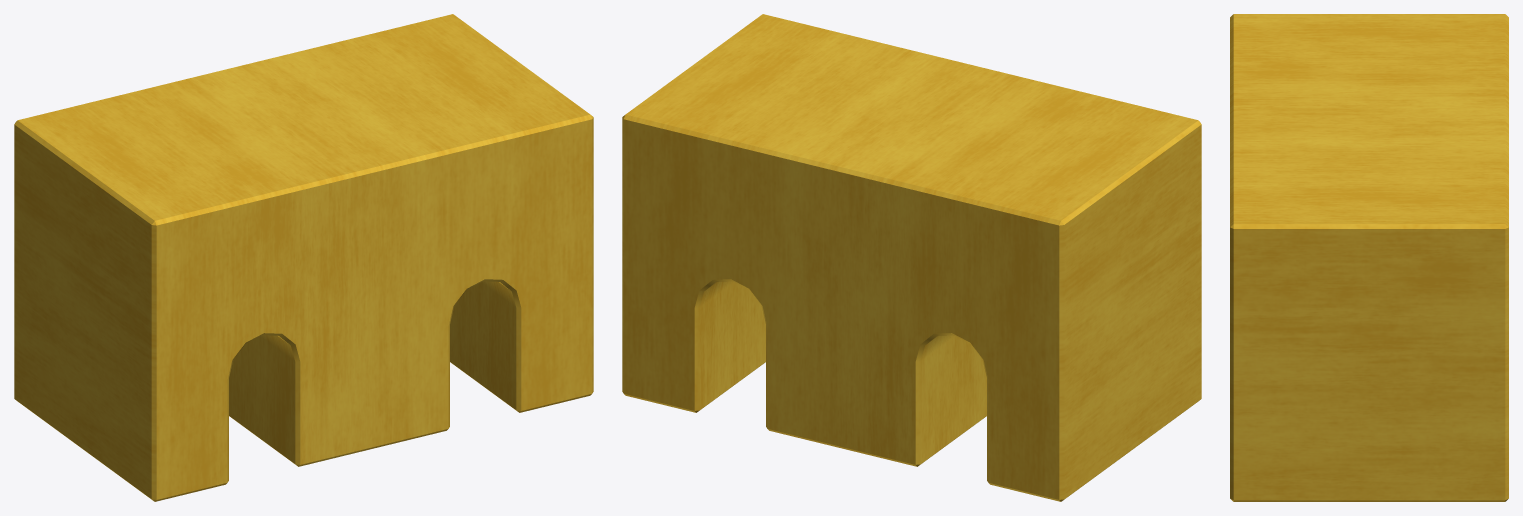
Rendered from houseblock4-2.fbx.
3 views of the same model, side by side, from view 1: azimuth 30°, elevation 25°; view 2: azimuth 150°, elevation 25°; view 3: azimuth 270°, elevation 25° (orthographic).
Visible parts, largest first — view 1: houseblock4; view 2: houseblock4; view 3: houseblock4.
Boxes of the visible parts, <box> form: houseblock4: <box>14,14,593,501</box>; houseblock4: <box>622,14,1201,501</box>; houseblock4: <box>1230,14,1508,501</box>.
Bounding box in the file's own units: 1.78 × 1.08 × 0.9853.
